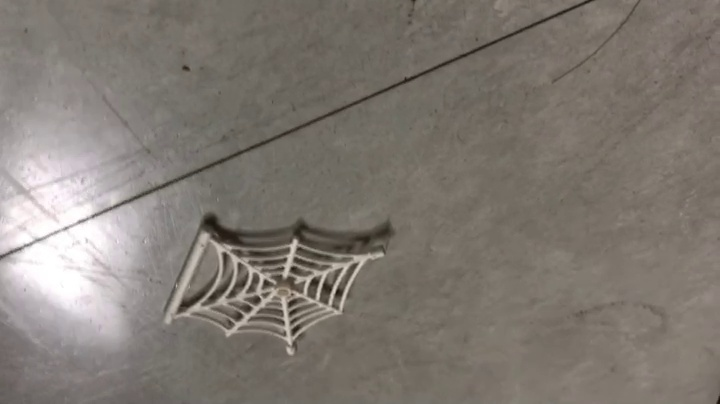web: (162, 213, 397, 357)
